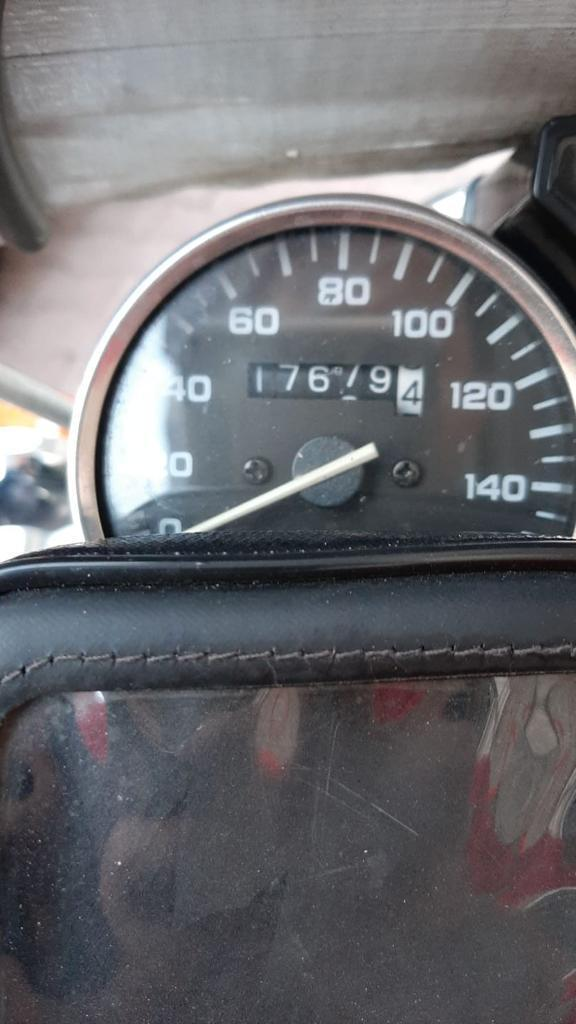1: (249, 363, 268, 393)
4: (398, 372, 423, 406)
6: (305, 363, 331, 394)
7: (336, 362, 364, 394), (275, 361, 300, 391)
9: (367, 363, 393, 395)
odometer: (245, 361, 428, 418)
